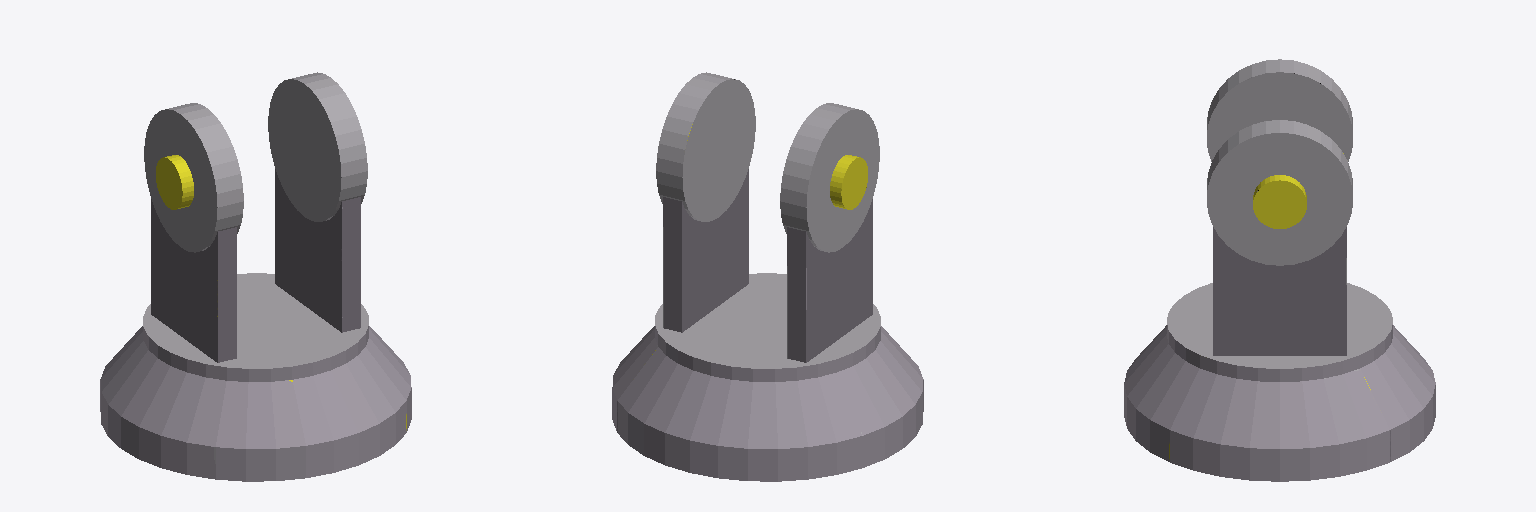
The picture shows the model from 3 angles: view 1: azimuth 30°, elevation 25°; view 2: azimuth 150°, elevation 25°; view 3: azimuth 270°, elevation 25°; orthographic projection.
Parts seen in each view (by area): view 1: TurretStand; view 2: TurretStand; view 3: TurretStand.
Part boxes in pixels (left/top/right/bottom): TurretStand: left=100, top=72, right=411, bottom=481; TurretStand: left=612, top=72, right=923, bottom=481; TurretStand: left=1124, top=59, right=1435, bottom=481.
Size of the model in its own units: 2.81 by 3.19 by 2.81.
Materials: 1 (1 with a texture image).